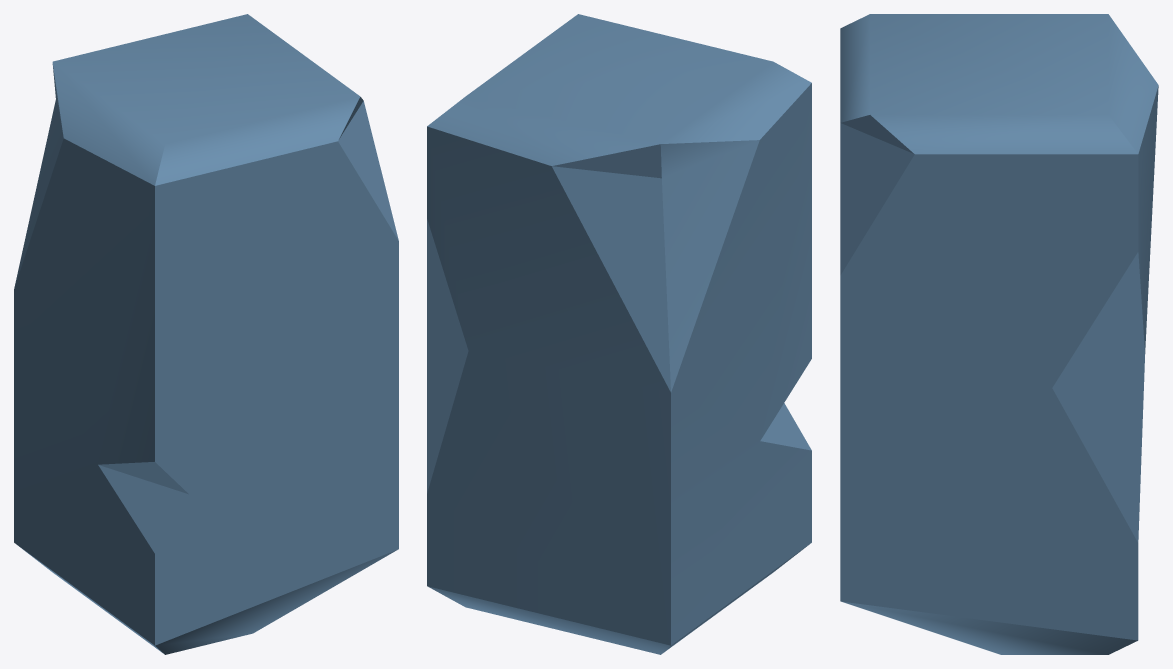
Rendered from Mesh_PiedraGrande_v06.fbx.
The picture shows the model from 3 angles, left to right: view 1: azimuth 30°, elevation 25°; view 2: azimuth 150°, elevation 25°; view 3: azimuth 270°, elevation 25°; orthographic projection. The views are drawn at different scales.
Visible parts, largest first — view 1: Mesh_PiedraGrande_v06; view 2: Mesh_PiedraGrande_v06; view 3: Mesh_PiedraGrande_v06.
Part boxes in pixels (x1,y1,x2,y2): Mesh_PiedraGrande_v06: [14, 14, 398, 654]; Mesh_PiedraGrande_v06: [427, 14, 811, 654]; Mesh_PiedraGrande_v06: [840, 14, 1158, 654].
Bounding box in the file's own units: 2.16 × 4 × 2.14.
